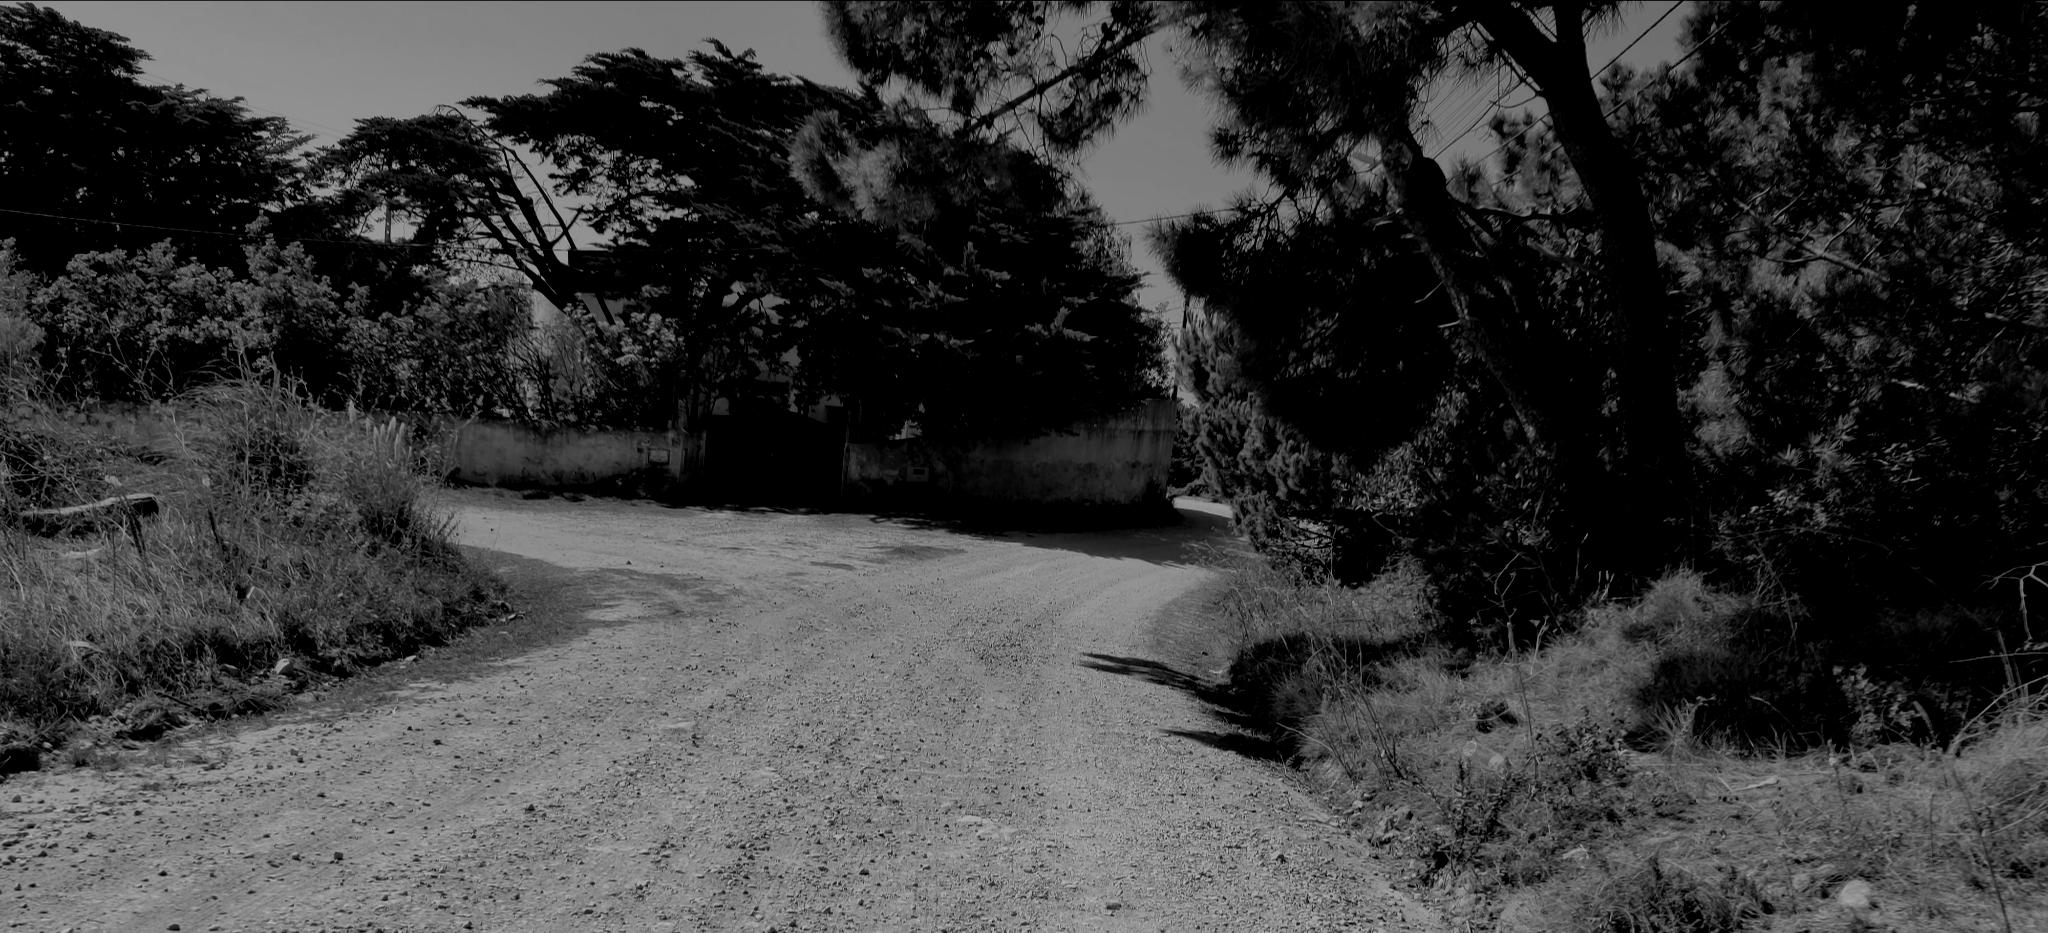bottle: (168, 548, 193, 574), (1463, 740, 1481, 754)
